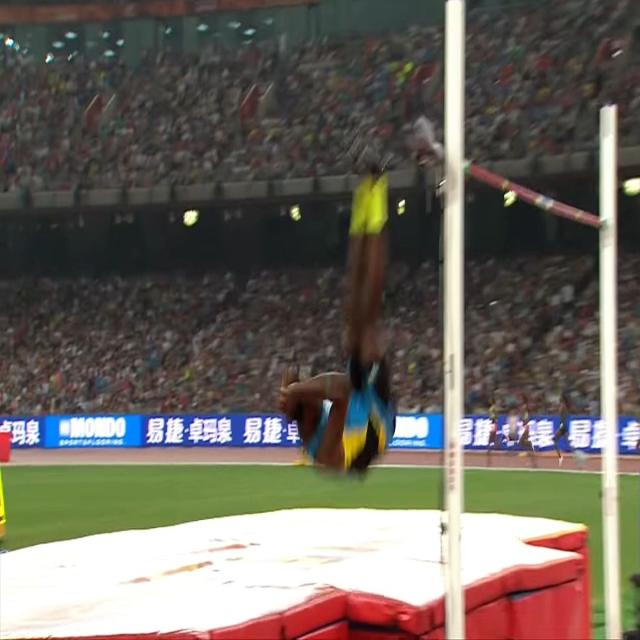land: (276, 131, 398, 472)
